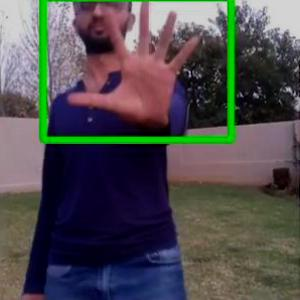follow_hand: (63, 0, 205, 131)
